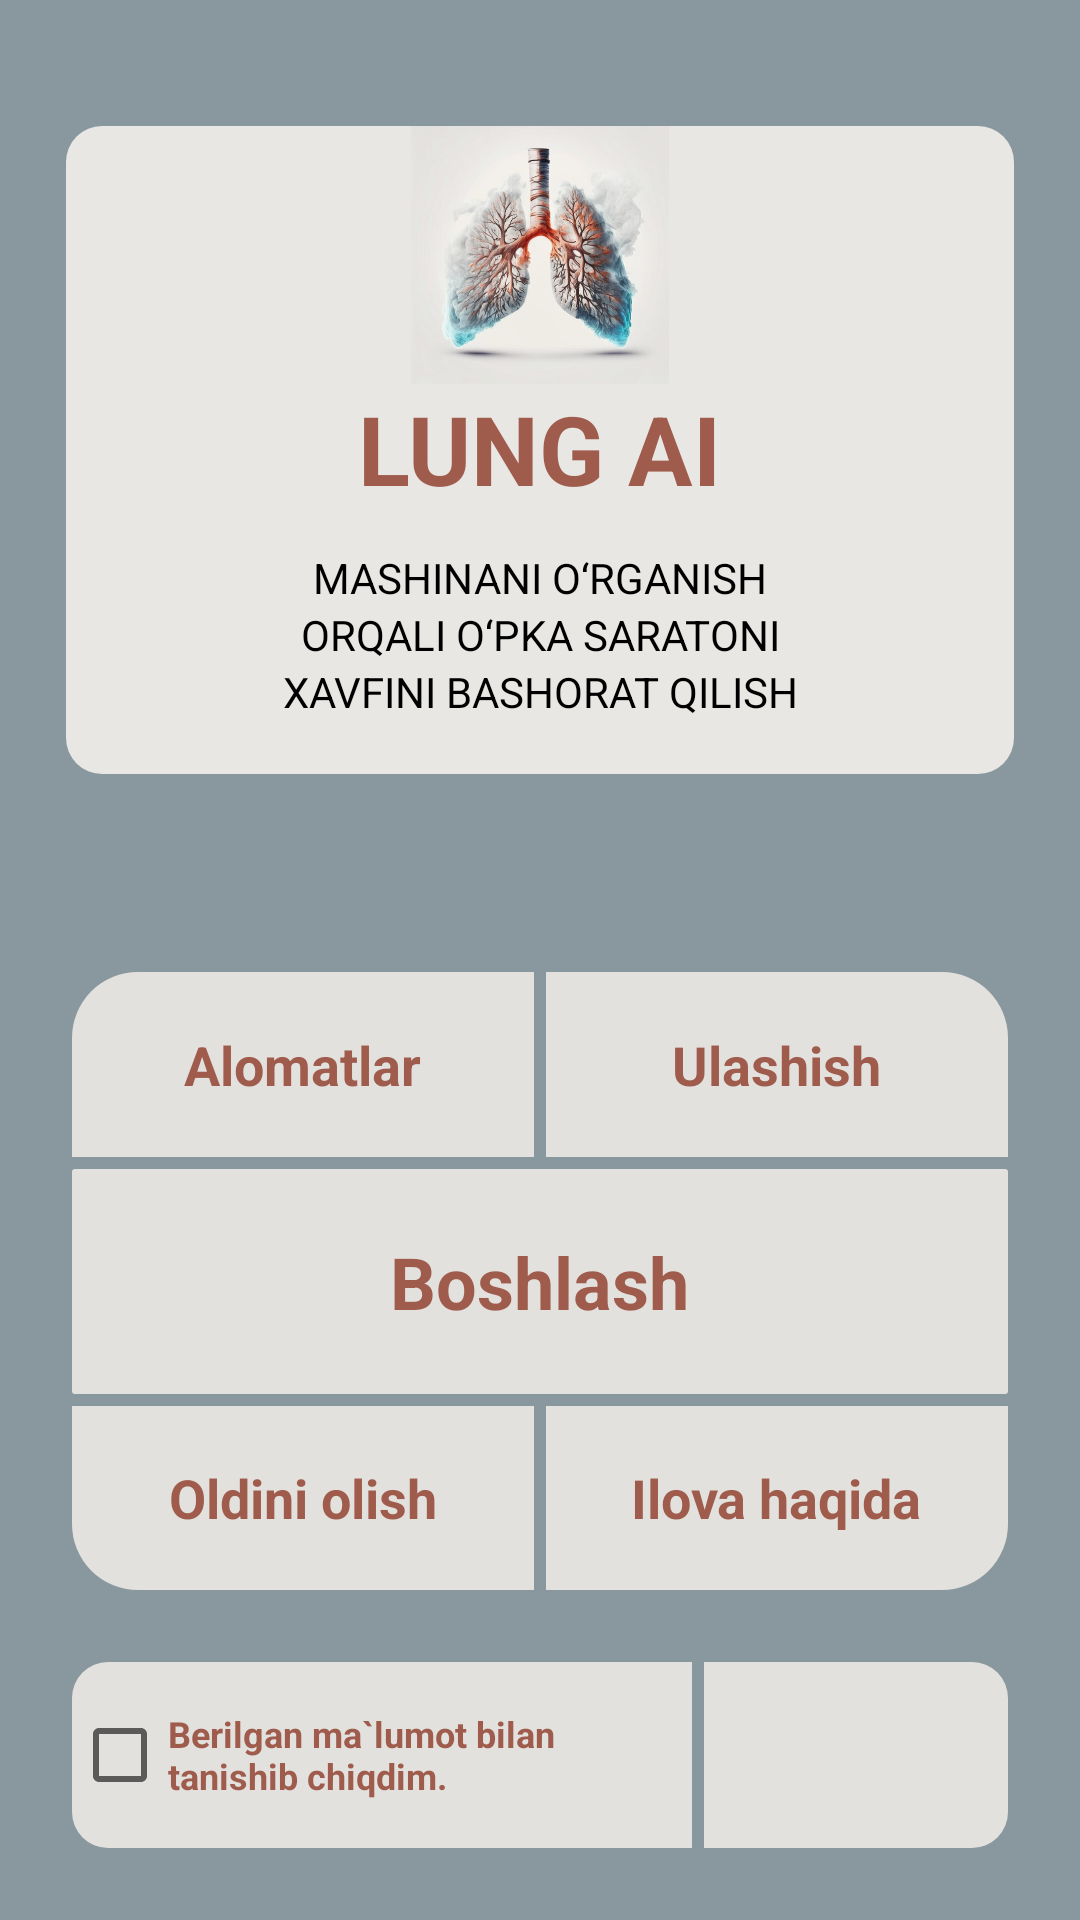

Screen size 1080 x 1920. Icon name, then its box in pixels as (x1, y1, x2, y2):
appiconn: (436, 138, 652, 360)
